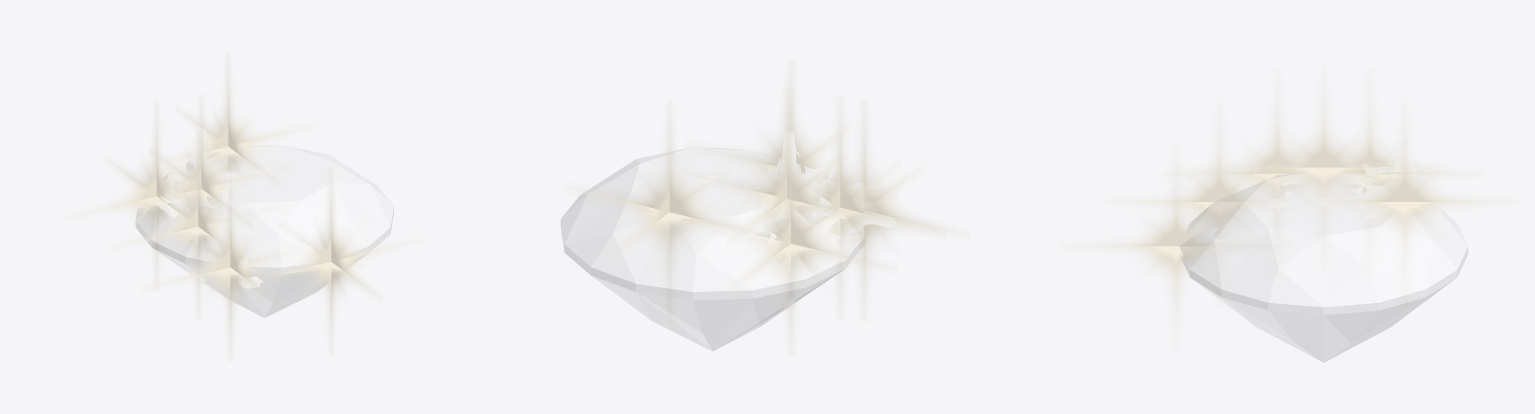
Rendered from diamond.glb.
3 renders of one model, left to right at view 1: azimuth 30°, elevation 25°; view 2: azimuth 150°, elevation 25°; view 3: azimuth 270°, elevation 25°, orthographic. The views are drawn at different scales.
Visible parts, largest first — view 1: diamond_mesh, diamond_sparkle_0_q0, diamond_sparkle_2_q0, diamond_sparkle_1_q0, diamond_sparkle_3_q0, diamond_sparkle_4_q0, diamond_sparkle_5_q0, diamond_sparkle_0_q1, diamond_sparkle_2_q1, diamond_sparkle_1_q1, diamond_sparkle_0_q2, diamond_sparkle_5_q2 (+7 smaller); view 2: diamond_mesh, diamond_sparkle_4_q0, diamond_sparkle_3_q0, diamond_sparkle_1_q0, diamond_sparkle_5_q0, diamond_sparkle_2_q0, diamond_sparkle_4_q2, diamond_sparkle_4_q1, diamond_sparkle_3_q1, diamond_sparkle_5_q2, diamond_sparkle_3_q2, diamond_sparkle_0_q0 (+7 smaller); view 3: diamond_mesh, diamond_sparkle_0_q1, diamond_sparkle_4_q1, diamond_sparkle_5_q1, diamond_sparkle_2_q1, diamond_sparkle_1_q1, diamond_sparkle_3_q1, diamond_sparkle_5_q2, diamond_sparkle_4_q2, diamond_sparkle_0_q2, diamond_sparkle_2_q2, diamond_sparkle_1_q2 (+1 smaller).
Part boxes in pixels (x1,y1,x2,y2): diamond_mesh: (136, 145, 393, 317); diamond_sparkle_0_q0: (260, 188, 401, 335); diamond_sparkle_2_q0: (158, 195, 285, 339); diamond_sparkle_1_q0: (127, 154, 255, 298); diamond_sparkle_3_q0: (84, 122, 178, 270); diamond_sparkle_4_q0: (164, 73, 300, 173); diamond_sparkle_5_q0: (130, 116, 270, 208); diamond_sparkle_0_q1: (300, 189, 372, 334); diamond_sparkle_2_q1: (209, 194, 270, 340); diamond_sparkle_1_q1: (166, 153, 239, 300); diamond_sparkle_0_q2: (262, 239, 399, 291); diamond_sparkle_5_q2: (133, 162, 264, 218); diamond_mesh: (561, 147, 864, 350); diamond_sparkle_4_q0: (585, 124, 754, 282); diamond_sparkle_3_q0: (756, 153, 874, 334); diamond_sparkle_1_q0: (813, 119, 923, 295); diamond_sparkle_5_q0: (705, 110, 873, 222); diamond_sparkle_2_q0: (852, 122, 948, 298); diamond_sparkle_4_q2: (587, 181, 751, 247); diamond_sparkle_4_q1: (621, 127, 712, 277); diamond_sparkle_3_q1: (742, 158, 829, 329); diamond_sparkle_5_q2: (712, 166, 870, 234); diamond_sparkle_3_q2: (743, 223, 872, 278); diamond_sparkle_0_q0: (724, 82, 834, 179); diamond_mesh: (1179, 173, 1467, 362); diamond_sparkle_0_q1: (1084, 160, 1248, 331); diamond_sparkle_4_q1: (1312, 116, 1497, 269); diamond_sparkle_5_q1: (1232, 82, 1398, 235); diamond_sparkle_2_q1: (1127, 116, 1286, 270); diamond_sparkle_1_q1: (1190, 87, 1301, 239); diamond_sparkle_3_q1: (1346, 88, 1461, 240); diamond_sparkle_5_q2: (1239, 158, 1396, 207); diamond_sparkle_4_q2: (1317, 192, 1493, 241); diamond_sparkle_0_q2: (1088, 236, 1242, 285); diamond_sparkle_2_q2: (1129, 192, 1282, 232); diamond_sparkle_1_q2: (1196, 172, 1298, 205).
Size of the model in its own units: 1.54 by 1.22 by 1.91.
Materials: 7 (6 with a texture image).
